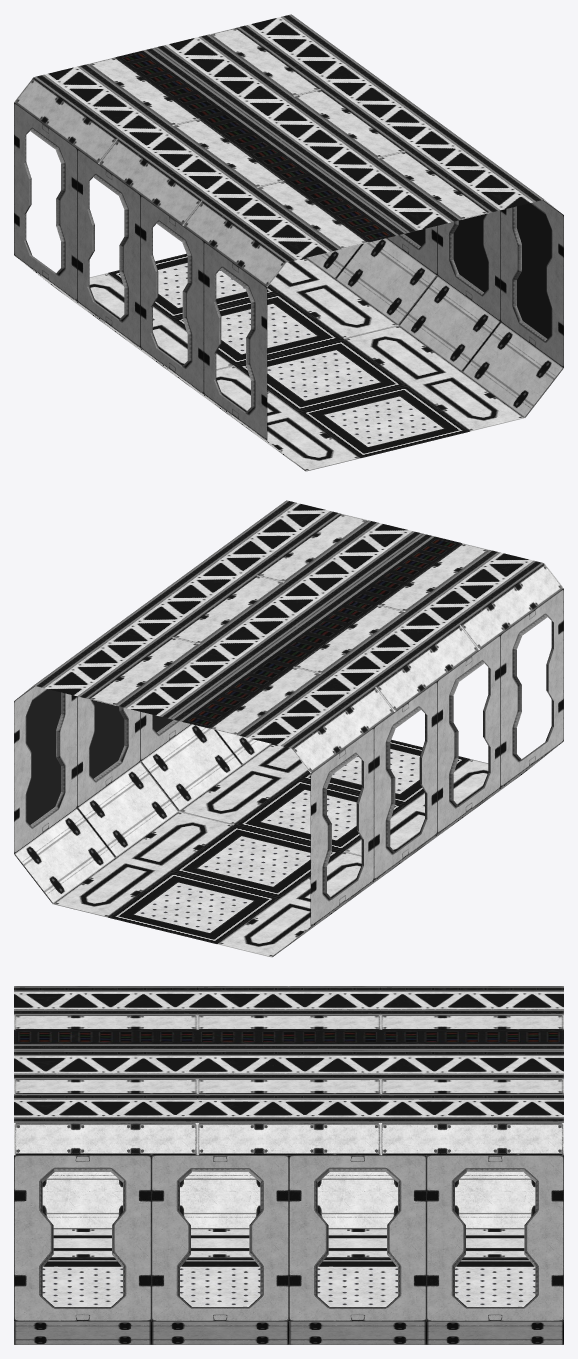
The model's file is window_corridor.glb.
3 views of the same model, one above another, from view 1: azimuth 30°, elevation 25°; view 2: azimuth 150°, elevation 25°; view 3: azimuth 270°, elevation 25° (orthographic). The views are drawn at different scales.
Parts seen in each view (by area): view 1: corridor_windows_straight, corridor_windows_windows; view 2: corridor_windows_straight, corridor_windows_windows; view 3: corridor_windows_straight.
Part boxes in pixels (x1,y1,x2,y2): corridor_windows_straight: (14, 14, 563, 471); corridor_windows_windows: (404, 203, 551, 338); corridor_windows_straight: (14, 500, 563, 957); corridor_windows_windows: (26, 689, 173, 824); corridor_windows_straight: (14, 986, 563, 1344).
Bounding box in the file's own units: 2.76 × 1.86 × 4.
2 materials, 1 textured.
